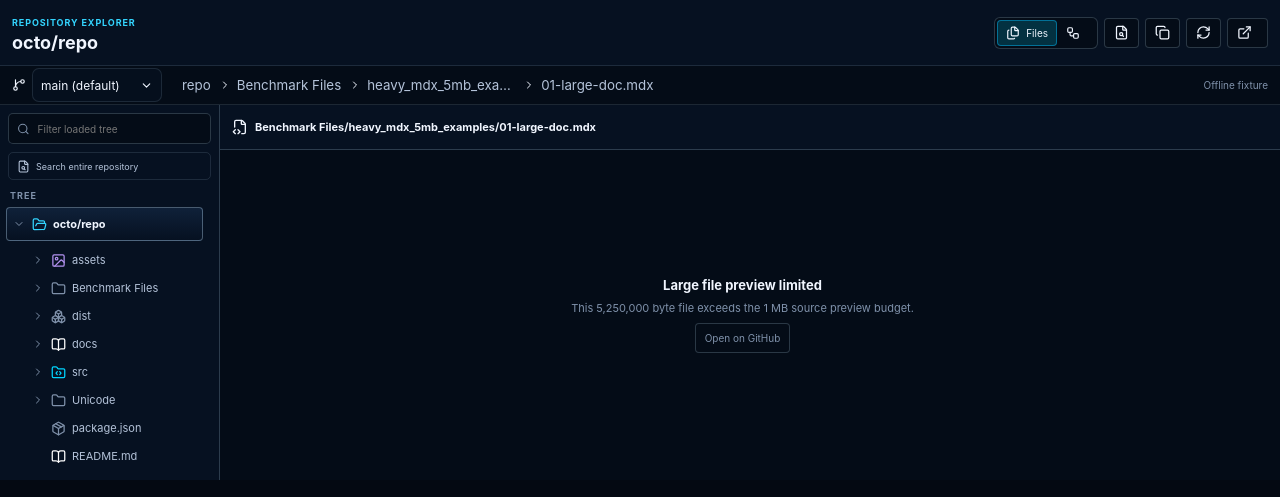
Scenario: RepositoryExplorer tree presentation › clicking the repository root breadcrumb returns to a safe root empty state
The image size is (1280, 497).
Expected: the text "Large file preview limited" is shown, [663,277,822,293]
Click the button "repo": (196, 85) [176,76,217,94]
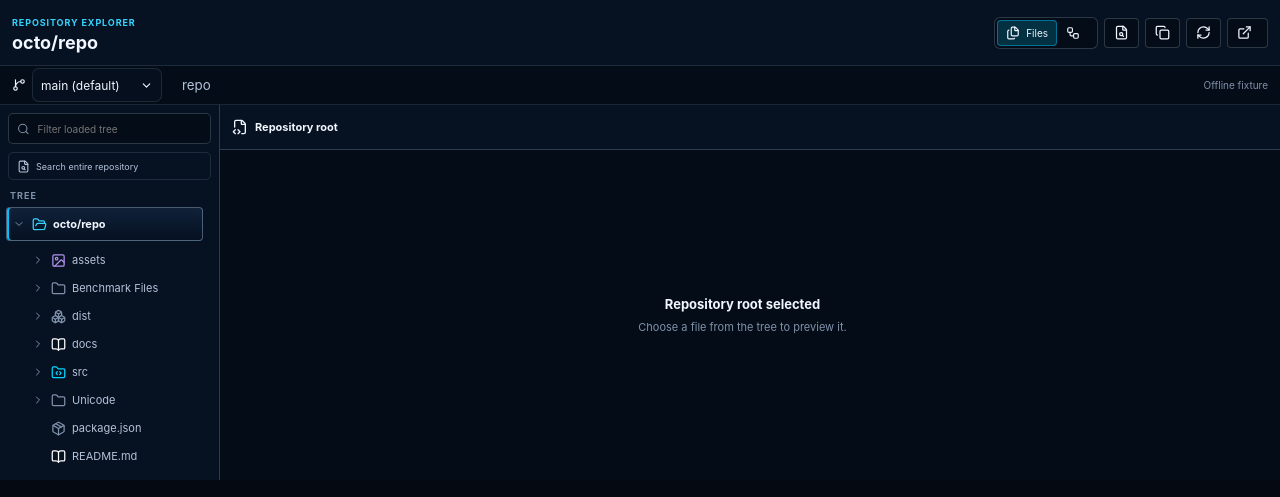
Result: the text "Repository root selected" is shown at [665,296,820,312]
Result: the text "Large file preview limited" is gone
